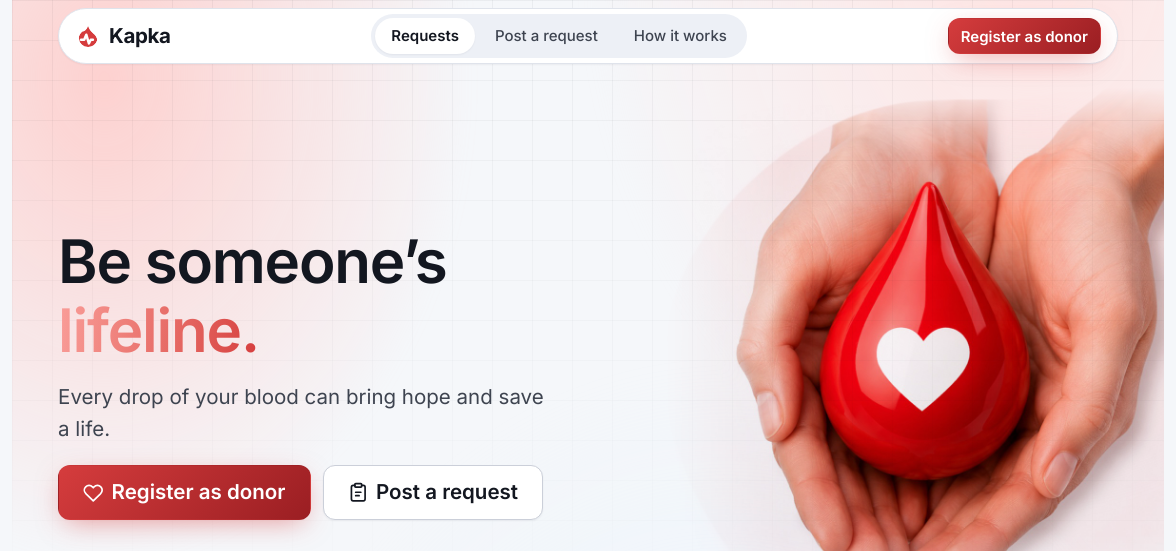
Scenario: the app end to end › walks from the header to registration
The image size is (1176, 551).
Click the link "Register as donor" in the row of "How it works": (1024, 36) x1=948 y1=18 x2=1101 y2=54
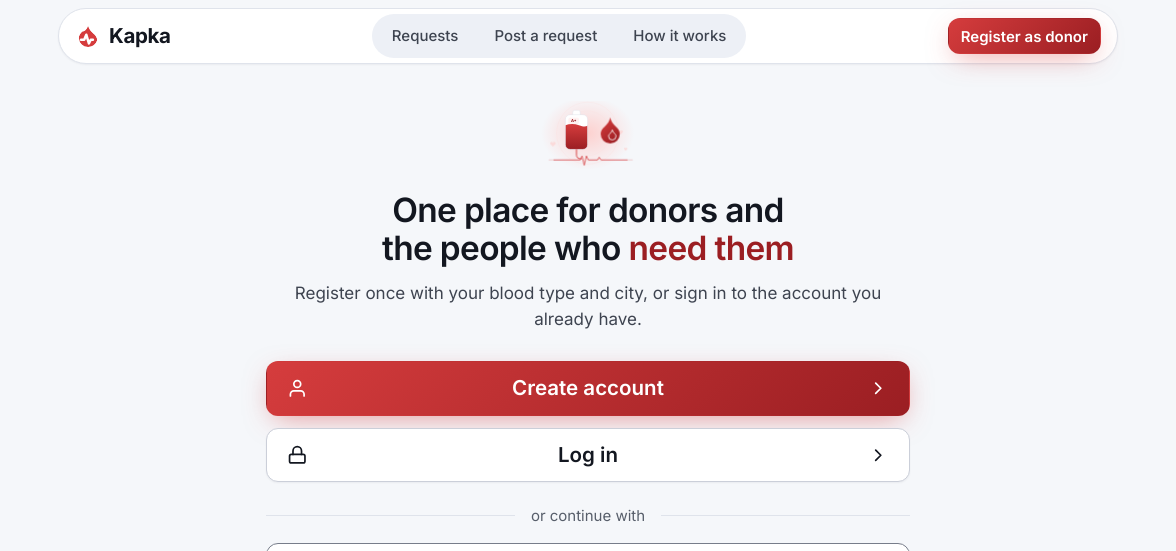
Expected: the link "Create account" is shown
Click the link "Create account": (588, 388) x1=266 y1=361 x2=910 y2=416
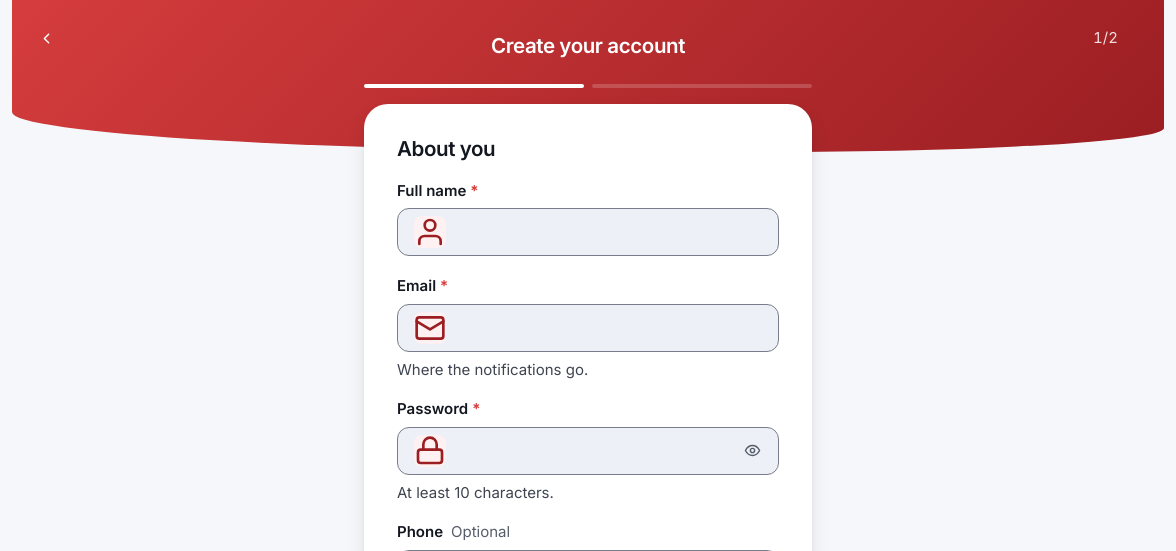
Expected: the heading "Create your account" is shown, x1=491 y1=33 x2=685 y2=58
Expected: the field labelled "Full name*" is shown, x1=458 y1=209 x2=762 y2=255
